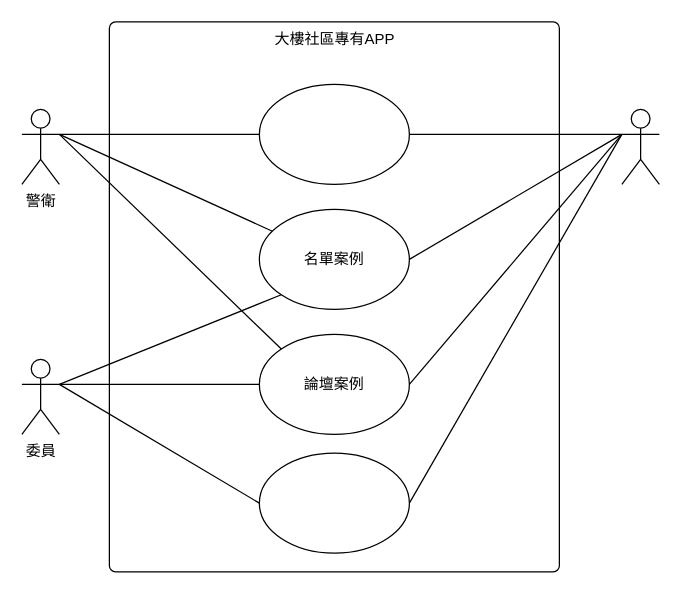
Some shapes in this 681 by 594 pixel diagram are drawn without their labels. The shapes that lost their labels are listed below. From the top down, each one's centre as x and y in pixels, then its label:
At point (333, 133): "提醒案例".
At point (640, 146): "住戶".
At point (333, 502): "公告案例".
